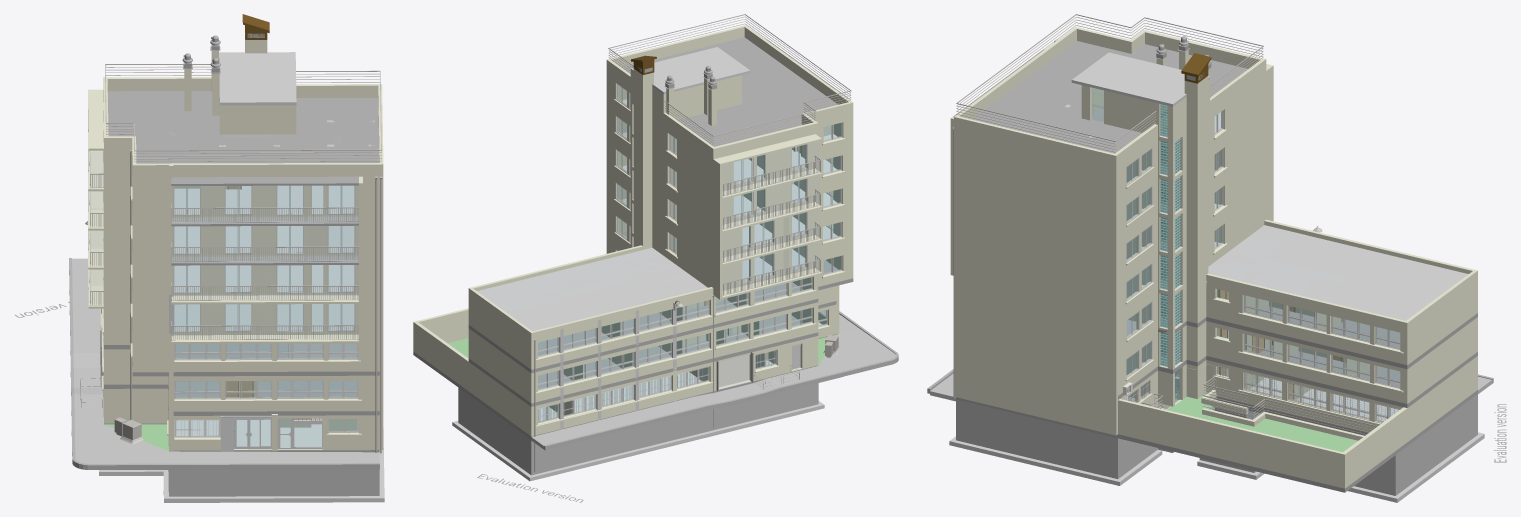
3 renders of one model, left to right at view 1: azimuth 30°, elevation 25°; view 2: azimuth 150°, elevation 25°; view 3: azimuth 270°, elevation 25°, orthographic. The views are drawn at different scales.
Parts seen in each view (by area): view 1: 2bFMCFmkj1kfWO5Lvqt__E, 1zCZNx5CT1i8Y9$_dU9fMm, 0dWoULYUH3zPg8qJ$TnRTP, 0dWoULYUH3zPg8qJhTnRTP, 0dWoULYUH3zPg8qJpTnRTP, 0dWoULYUH3zPg8qJtTnRTP, 0dWoULYUH3zPg8sJxTnRgm, 0dWoULYUH3zPg8qJlTnRTP, 313IdYHbv0JwPbnB6B727$, 0JJqPutQD7fgEmZfe5WIOV, 0dWoULYUH3zPg8qJZTnRTP, 04Zj82bz96WhfKErdD6QSF (+73 smaller); view 2: 1IQJpSU49DlPKPMYhdab44, 2bFMCFmkj1kfWO5Lvqt__E, 1T2hYTZj1EsBZaf4hQmbXu, 3RLTfSMBXE_BWgA7WbvgjJ, 04Zj82bz96WhfKErdD6QSF, 1T2hYTZj1EsBZaf4hQmbWV, 313IdYHbv0JwPbnB6B727$, 0JJqPutQD7fgEmZfe5WIOV, 2QdDmV0TrDCeyB2Uhxt6rB, 34YWoH0WT4GQc$ARBHEUIX, 0dWoULYUH3zPg8sJxTnRUj, 0JJqPutQD7fgEmZfq5WIOV (+64 smaller); view 3: 1IQJpSU49DlPKPMYhdab44, 2bFMCFmkj1kfWO5Lvqt__E, 3RLTfSMBXE_BWgA7Wbvgs$, 1zCZNx5CT1i8Y9$_dU9fLy, 321EIHH0v8KOO2s9NjdAGp, 321EIHH0v8KOO2s9BjdAGp, 321EIHH0v8KOO2s93jdAGp, 321EIHH0v8KOO2s9JjdAGp, 321EIHH0v8KOO2s9FjdAGp, 321EIHH0v8KOO2s97jdAGp, 321EIHH0v8KOO2s9RjdAGp, 3RLTfSMBXE_BWgA7WbvgjJ (+44 smaller).
Part boxes in pixels (x1,y1,x2,y2): 2bFMCFmkj1kfWO5Lvqt__E: (107,91,379,163); 1zCZNx5CT1i8Y9$_dU9fMm: (169,469,375,496); 0dWoULYUH3zPg8qJ$TnRTP: (136,332,379,372); 0dWoULYUH3zPg8qJhTnRTP: (136,215,379,255); 0dWoULYUH3zPg8qJpTnRTP: (136,293,379,333); 0dWoULYUH3zPg8qJtTnRTP: (136,254,379,294); 0dWoULYUH3zPg8sJxTnRgm: (173,375,379,411); 0dWoULYUH3zPg8qJlTnRTP: (136,176,379,216); 313IdYHbv0JwPbnB6B727$: (219,52,296,105); 0JJqPutQD7fgEmZfe5WIOV: (74,394,168,463); 0dWoULYUH3zPg8qJZTnRTP: (136,163,379,177); 04Zj82bz96WhfKErdD6QSF: (105,64,381,161); 1IQJpSU49DlPKPMYhdab44: (477,247,707,331); 2bFMCFmkj1kfWO5Lvqt__E: (622,37,837,146); 1T2hYTZj1EsBZaf4hQmbXu: (534,383,818,474); 3RLTfSMBXE_BWgA7WbvgjJ: (415,322,529,434); 04Zj82bz96WhfKErdD6QSF: (608,14,851,145); 1T2hYTZj1EsBZaf4hQmbWV: (458,387,534,475); 313IdYHbv0JwPbnB6B727$: (630,47,750,94); 0JJqPutQD7fgEmZfe5WIOV: (766,329,895,387); 2QdDmV0TrDCeyB2Uhxt6rB: (676,266,815,333); 34YWoH0WT4GQc$ARBHEUIX: (538,231,838,355); 0dWoULYUH3zPg8sJxTnRUj: (468,292,529,367); 0JJqPutQD7fgEmZfq5WIOV: (531,396,706,449); 1IQJpSU49DlPKPMYhdab44: (1206,225,1468,320); 2bFMCFmkj1kfWO5Lvqt__E: (972,41,1247,153); 3RLTfSMBXE_BWgA7Wbvgs$: (1118,399,1346,488); 1zCZNx5CT1i8Y9$_dU9fLy: (956,399,1119,478); 321EIHH0v8KOO2s9NjdAGp: (954,320,1117,397); 321EIHH0v8KOO2s9BjdAGp: (954,205,1117,282); 321EIHH0v8KOO2s93jdAGp: (954,129,1117,205); 321EIHH0v8KOO2s9JjdAGp: (954,281,1117,358); 321EIHH0v8KOO2s9FjdAGp: (954,243,1117,320); 321EIHH0v8KOO2s97jdAGp: (954,167,1117,243); 321EIHH0v8KOO2s9RjdAGp: (954,358,1117,435); 3RLTfSMBXE_BWgA7WbvgjJ: (1343,357,1475,486).
Bounding box in the file's own units: 32.77 × 28.19 × 38.52.
